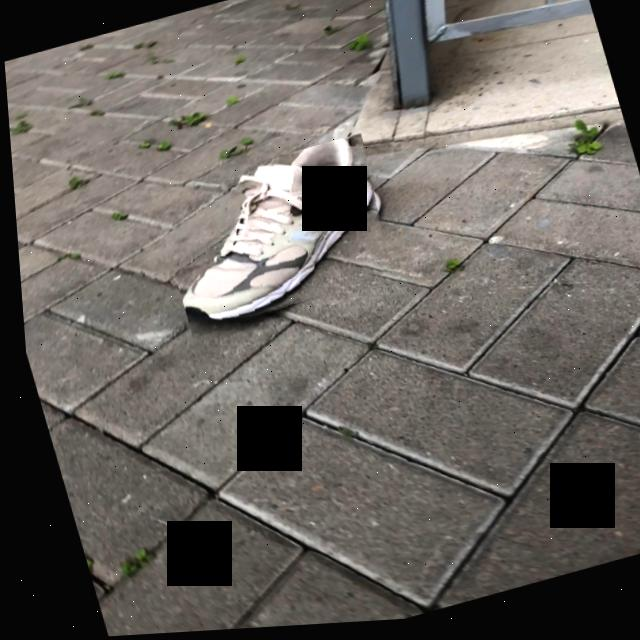shoe: (178, 141, 373, 327)
